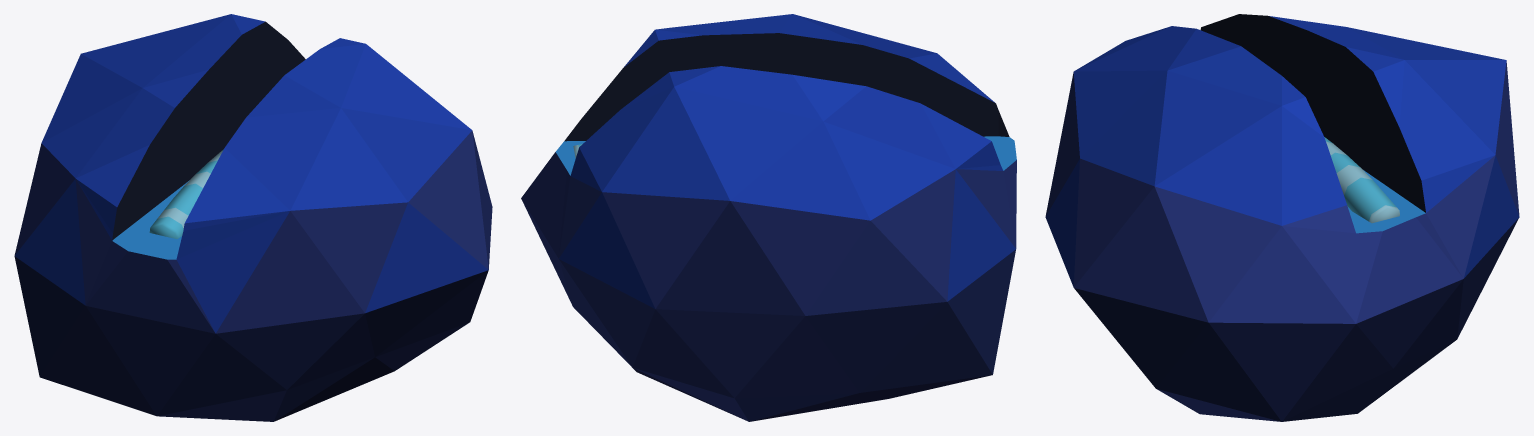
The model's file is Plasmastone.glb.
3 views of the same model, side by side, from view 1: azimuth 30°, elevation 25°; view 2: azimuth 150°, elevation 25°; view 3: azimuth 270°, elevation 25° (orthographic). The views are drawn at different scales.
Visible parts, largest first — view 1: Plasmastone; view 2: Plasmastone; view 3: Plasmastone.
Boxes of the visible parts, x1=… form: Plasmastone: x1=14, y1=14, x2=492, y2=421; Plasmastone: x1=521, y1=14, x2=1016, y2=421; Plasmastone: x1=1045, y1=14, x2=1519, y2=421.
Size of the model in its own units: 1.21 by 0.8622 by 1.12.
